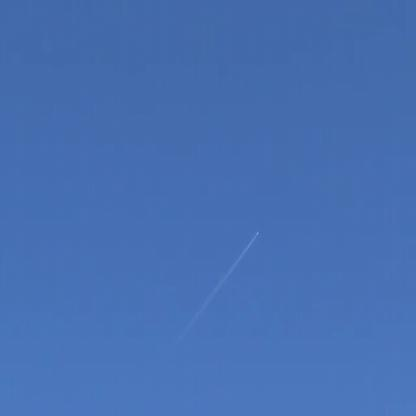CIV_Plane: (255, 230, 262, 238)
